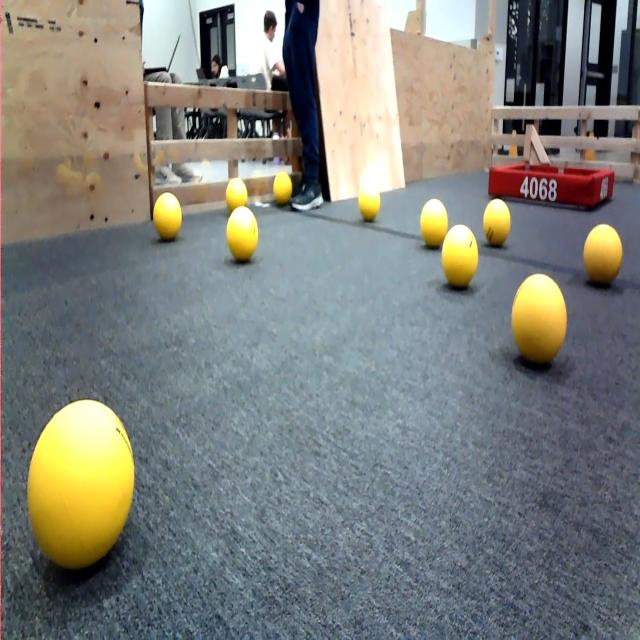fuel: (24, 394, 141, 581), (508, 267, 576, 374), (580, 218, 634, 292), (438, 216, 484, 291), (223, 198, 259, 271), (419, 194, 454, 260), (354, 170, 389, 230), (152, 186, 186, 247), (477, 196, 517, 247), (269, 165, 300, 210), (222, 168, 249, 210)
